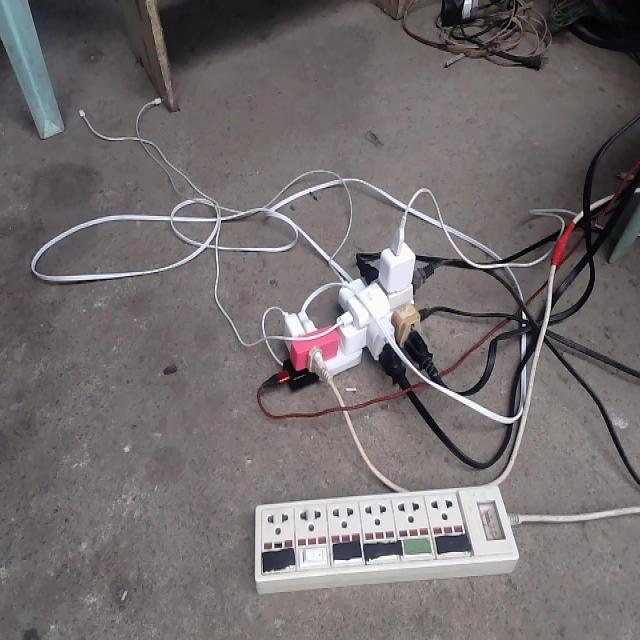-: (259, 211, 441, 397)
